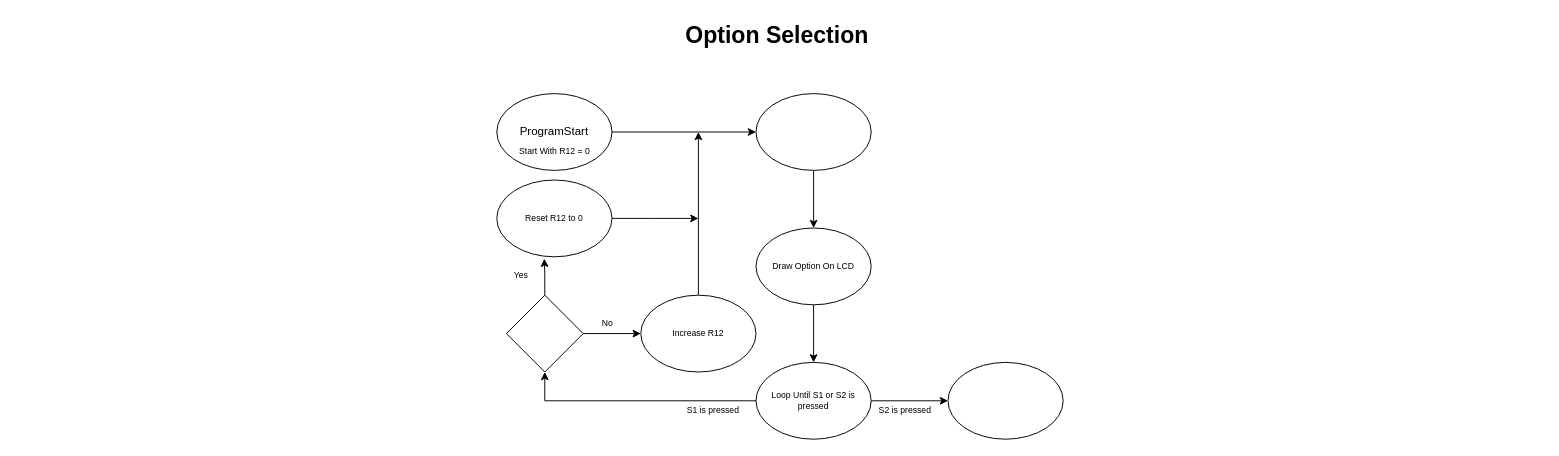
Some shapes in this 1559 by 456 pixel diagram are drawn without their labels. The centre of each missing label's shape, as x and y in pixels:
"Enter Dedicated Input Stage For Each Option (Binary, Octal or Decimal)" goes at (x=1005, y=400).
"Is R12 at the final state?" goes at (x=544, y=333).
"State Selector" goes at (x=813, y=131).
